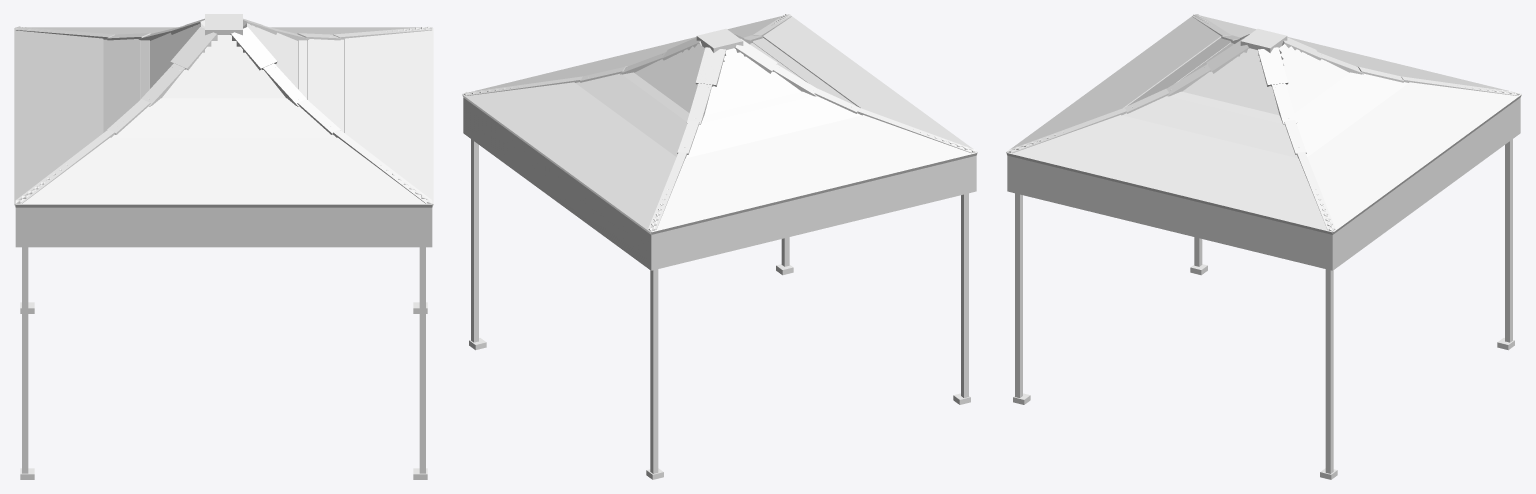
Rendered from tent_blue_baituan_y60.obj.
3 renders of one model, left to right at view 1: azimuth 30°, elevation 25°; view 2: azimuth 150°, elevation 25°; view 3: azimuth 270°, elevation 25°, orthographic. The views are drawn at different scales.
Parts seen in each view (by area): view 1: text2, cube1.005, cube2.005, cube3.005, cube4.005, cube5.001, cube6.001, cube7.001, cube8.001, stem1, stem3, cube13.001 (+71 smaller); view 2: text1, text0, cube1.003, stem2, cube1.006, stem1, stem4, cube2.003, cube3.003, cube4.003, cube5, cube6 (+48 smaller); view 3: text3, text0, cube1.004, stem4, cube1.006, stem3, stem2, cube2.004, cube3.004, cube4.004, cube5.000, cube6.000 (+48 smaller).
Part boxes in pixels (x1,y1,x2,y2): text2: (15, 207, 432, 247); cube1.005: (15, 200, 432, 207); cube2.005: (22, 196, 425, 200); cube3.005: (28, 191, 419, 195); cube4.005: (34, 187, 413, 191); cube5.001: (41, 182, 406, 186); cube6.001: (47, 178, 400, 182); cube7.001: (53, 173, 394, 177); cube8.001: (60, 169, 387, 173); stem1: (22, 247, 28, 473); stem3: (419, 247, 425, 473); cube13.001: (92, 146, 355, 151); text1: (656, 157, 971, 269); text0: (463, 98, 655, 270); cube1.003: (649, 149, 977, 234); stem2: (650, 269, 658, 473); cube1.006: (462, 92, 654, 234); stem1: (961, 193, 968, 397); stem4: (471, 139, 478, 342); cube2.003: (651, 146, 969, 227); cube3.003: (653, 144, 961, 222); cube4.003: (656, 141, 953, 216); cube5: (658, 139, 945, 211); cube6: (660, 136, 937, 206); text3: (1012, 157, 1327, 269); text0: (1328, 98, 1520, 270); cube1.004: (1006, 149, 1334, 234); stem4: (1325, 269, 1333, 473); cube1.006: (1328, 92, 1521, 235); stem3: (1015, 193, 1022, 397); stem2: (1505, 139, 1512, 342); cube2.004: (1014, 146, 1332, 227); cube3.004: (1022, 144, 1330, 222); cube4.004: (1030, 141, 1327, 216); cube5.000: (1038, 139, 1325, 211); cube6.000: (1046, 136, 1323, 206).
Bounding box in the file's own units: 5.09 × 3.66 × 5.09.
